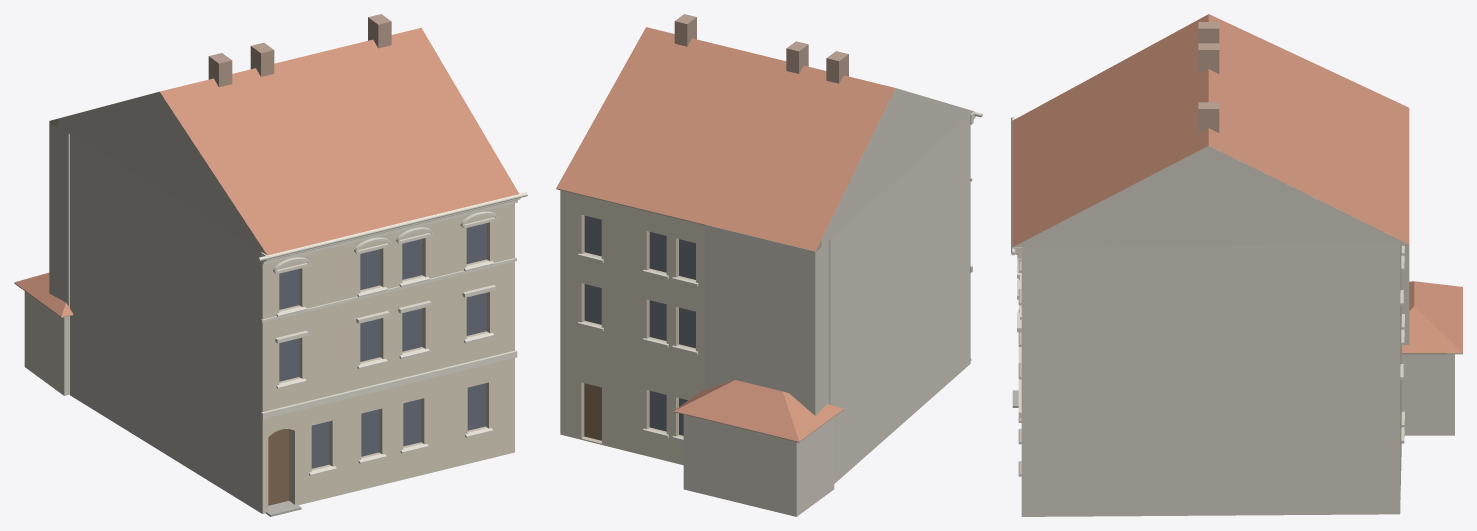
3 renders of one model, left to right at view 1: azimuth 30°, elevation 25°; view 2: azimuth 150°, elevation 25°; view 3: azimuth 270°, elevation 25°, orthographic. The views are drawn at different scales.
Parts seen in each view (by area): view 1: CP_988_Masonry, CP_988_Roof, CP_988_Gable_L_gable, CP_988_AtticClosure_1, CP_988_Annex_SW_Wall, CP_988_Cornice_string_0, CP_988_Cornice_main_0, CP_988_WingRoof_Annex_SW, CP_988_Gutter, CP_988_Cornice_sillband_0, CP_988_Chimney_1, CP_988_Chimney_2 (+1 smaller); view 2: CP_988_Masonry, CP_988_Roof, CP_988_AtticClosure_1, CP_988_Annex_SW_Wall, CP_988_Gable_L_gable, CP_988_WingRoof_Annex_SW, CP_988_Chimney_2, CP_988_Chimney_1, CP_988_Chimney_0; view 3: CP_988_Masonry, CP_988_Roof, CP_988_Gable_R_gable, CP_988_Annex_SW_Wall, CP_988_WingRoof_Annex_SW, CP_988_AtticClosure_1, CP_988_Chimney_0, CP_988_Chimney_1.
Part boxes in pixels (<box>): CP_988_Masonry: <box>70,134,514,513</box>; CP_988_Roof: <box>160,27,518,255</box>; CP_988_Gable_L_gable: <box>49,91,266,254</box>; CP_988_AtticClosure_1: <box>49,116,69,306</box>; CP_988_Annex_SW_Wall: <box>24,291,69,395</box>; CP_988_Cornice_string_0: <box>261,350,517,419</box>; CP_988_Cornice_main_0: <box>261,193,520,264</box>; CP_988_WingRoof_Annex_SW: <box>14,272,72,316</box>; CP_988_Gutter: <box>258,192,527,261</box>; CP_988_Cornice_sillband_0: <box>261,257,516,322</box>; CP_988_Chimney_1: <box>250,42,274,76</box>; CP_988_Chimney_2: <box>208,53,232,87</box>; CP_988_Masonry: <box>560,115,970,483</box>; CP_988_Roof: <box>556,27,895,251</box>; CP_988_AtticClosure_1: <box>705,224,829,415</box>; CP_988_Annex_SW_Wall: <box>683,414,834,516</box>; CP_988_Gable_L_gable: <box>815,88,973,250</box>; CP_988_WingRoof_Annex_SW: <box>674,379,843,441</box>; CP_988_Chimney_2: <box>826,51,848,83</box>; CP_988_Chimney_1: <box>786,41,808,73</box>; CP_988_Chimney_0: <box>674,14,696,46</box>; CP_988_Masonry: <box>1021,244,1401,516</box>; CP_988_Roof: <box>1012,14,1409,246</box>; CP_988_Gable_R_gable: <box>1013,146,1408,247</box>; CP_988_Annex_SW_Wall: <box>1402,354,1454,435</box>; CP_988_WingRoof_Annex_SW: <box>1402,281,1462,352</box>; CP_988_AtticClosure_1: <box>1402,244,1409,344</box>; CP_988_Chimney_0: <box>1198,102,1219,133</box>; CP_988_Chimney_1: <box>1198,43,1219,74</box>.
Bounding box in the file's own units: 13.3 × 16.32 × 17.16.
